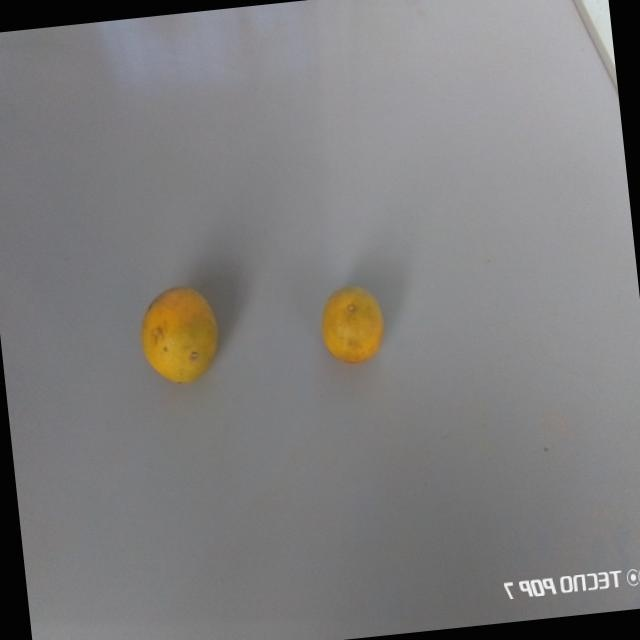agrume: (124, 275, 238, 401), (312, 274, 393, 370)
